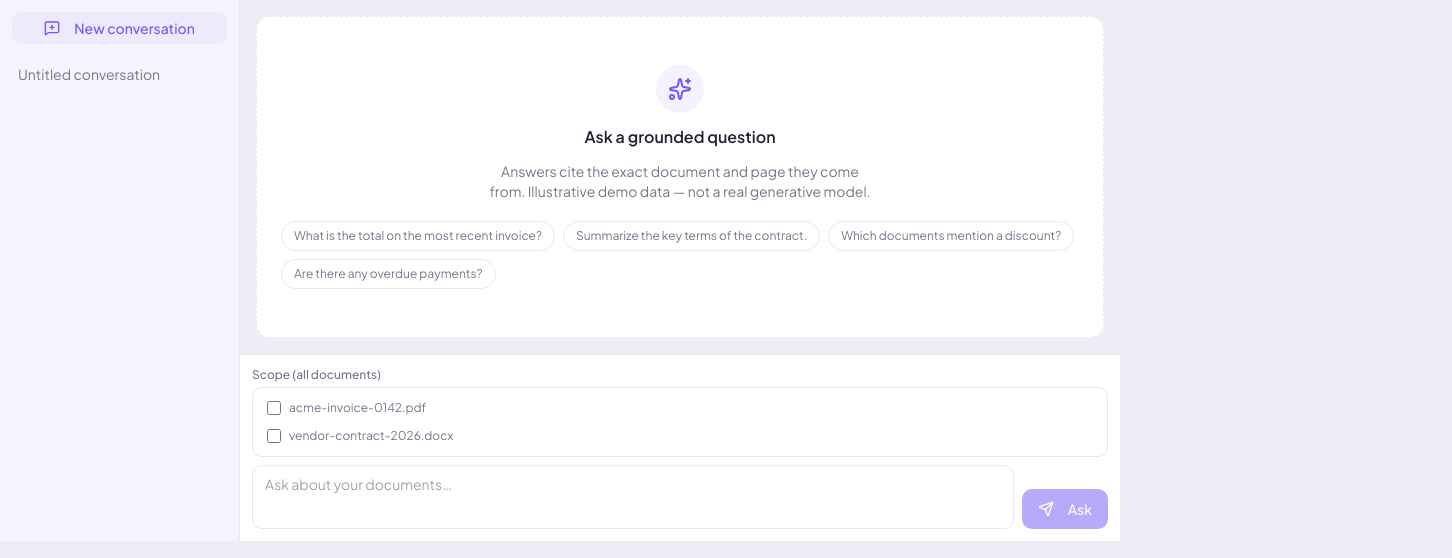
AiAssistantPage › opens the source panel at the cited document and page when a citation is clicked
The width and height of the screenshot is (1452, 558).
Step 1. Click the button "Untitled conversation" → (120, 74), box [8, 56, 231, 92]
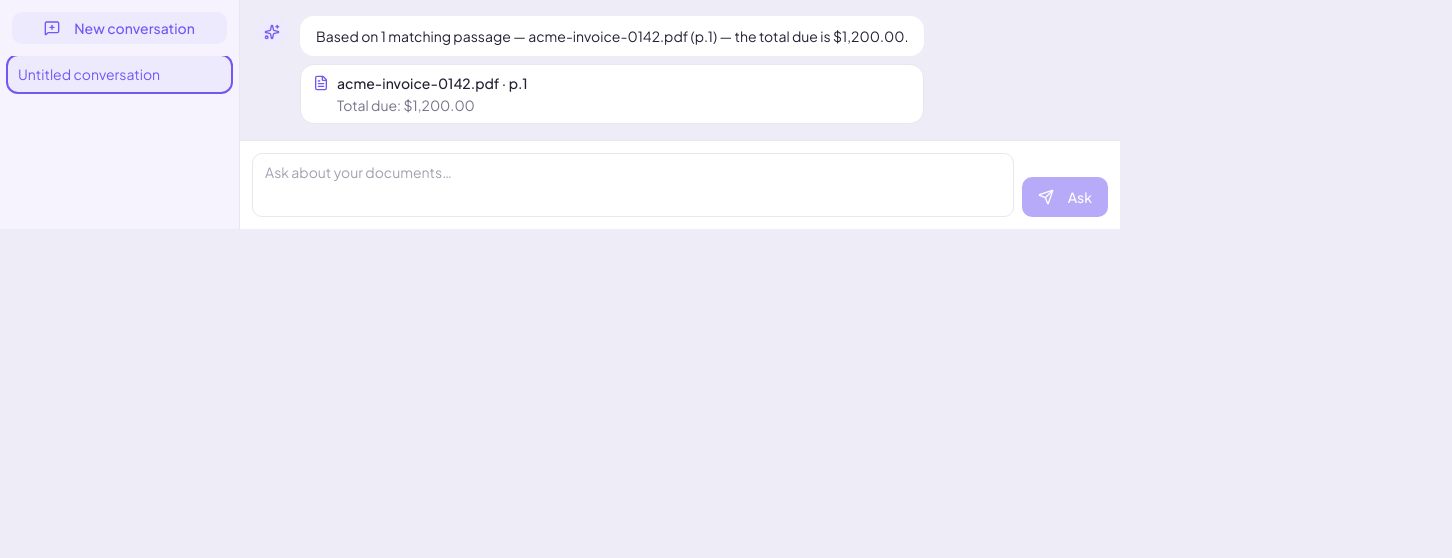
Step 2. Click the button "acme-invoice-0142.pdf · p.1 Total due: $1,200.00" → (418, 83), box [300, 64, 924, 124]
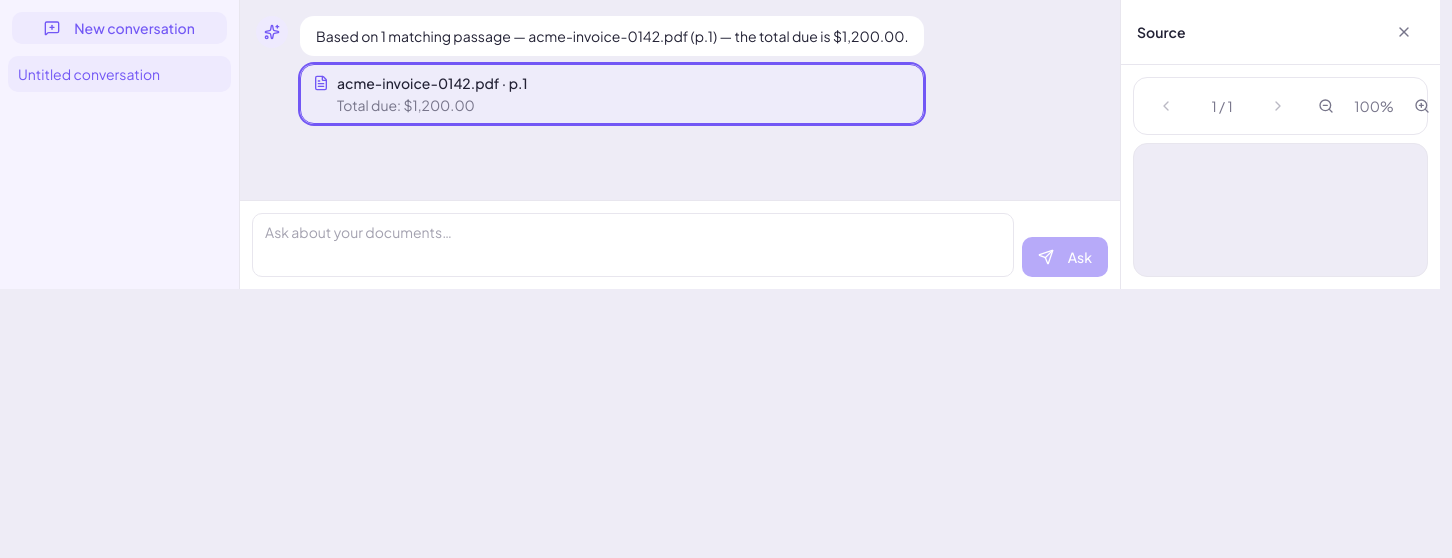
expect the heading "Source" is shown: met, box [1137, 22, 1186, 42]
